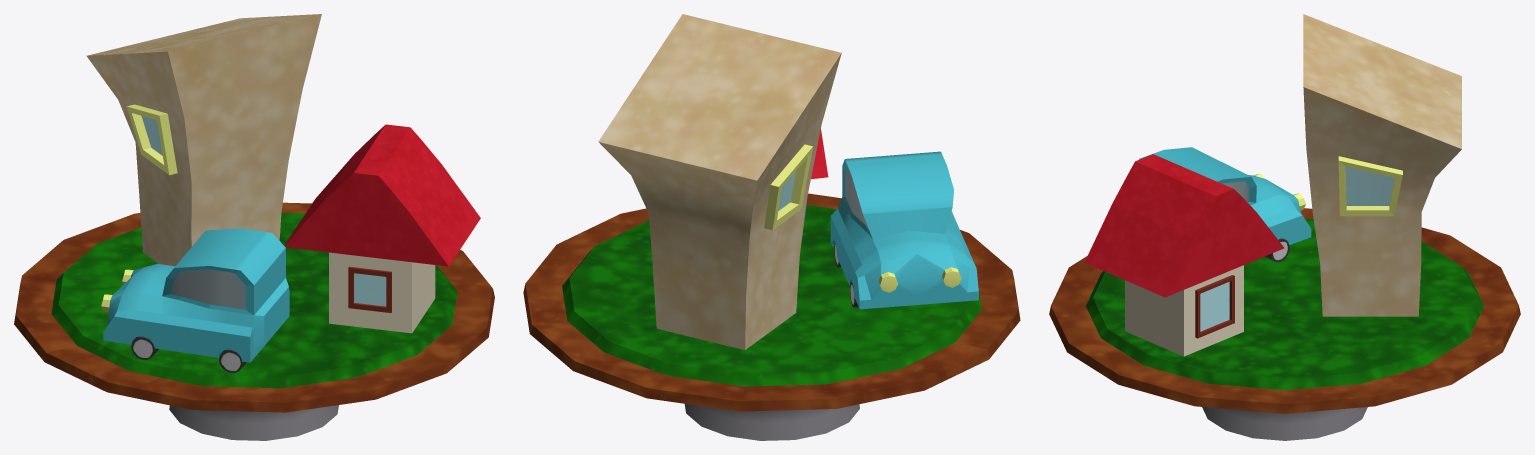
Rendered from citystage.fbx.
3 views of the same model, side by side, from view 1: azimuth 30°, elevation 25°; view 2: azimuth 150°, elevation 25°; view 3: azimuth 270°, elevation 25° (orthographic). The views are drawn at different scales.
Visible parts, largest first — view 1: pCylinder8; view 2: pCylinder8; view 3: pCylinder8.
Part boxes in pixels (left/top/right/bottom): pCylinder8: left=14, top=14, right=494, bottom=440; pCylinder8: left=523, top=14, right=1020, bottom=440; pCylinder8: left=1049, top=14, right=1520, bottom=440.
Size of the model in its own units: 3.98 by 3.3 by 3.98.
Materials: 1 (1 with a texture image).
